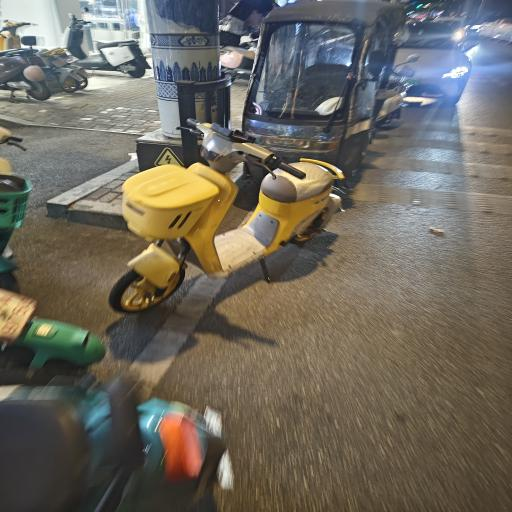car: (67, 48, 420, 231), (72, 109, 215, 362)
